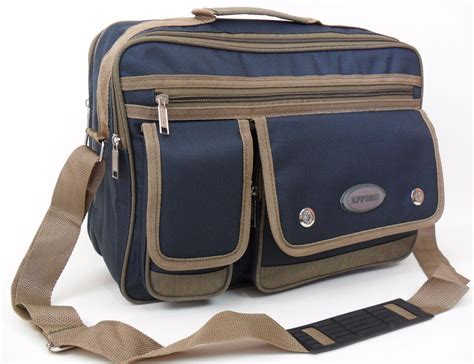nylon: (86, 12, 446, 304)
